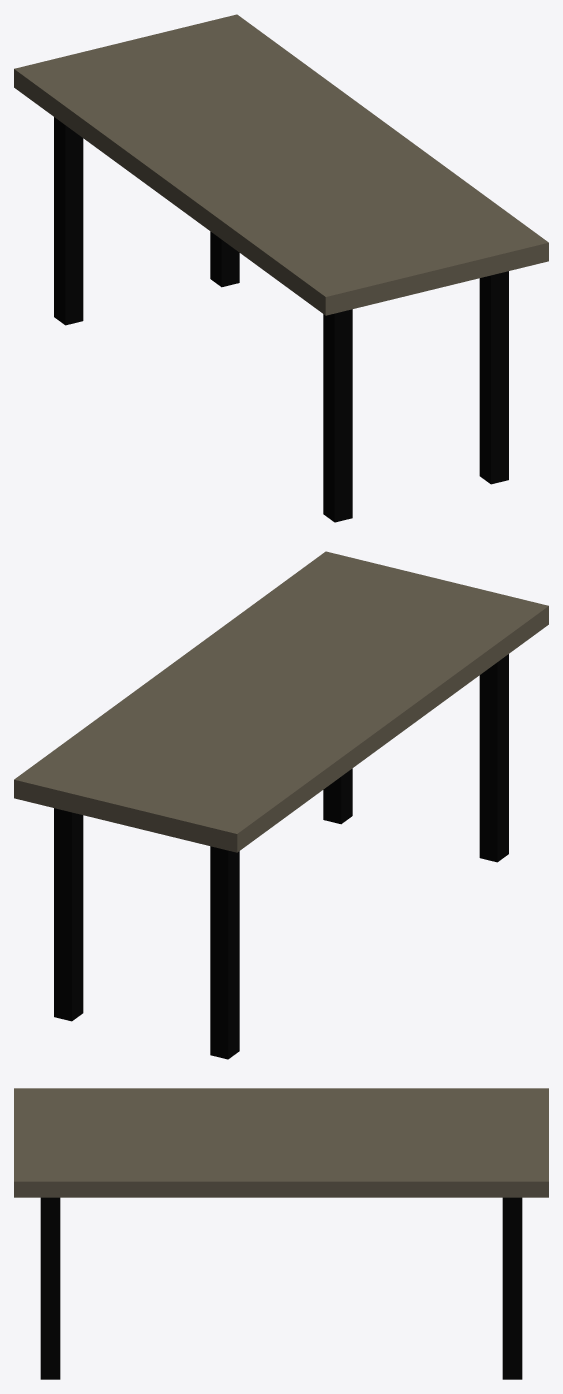
Rendered from Table.glb.
3 views of the same model, one above another, from view 1: azimuth 30°, elevation 25°; view 2: azimuth 150°, elevation 25°; view 3: azimuth 270°, elevation 25° (orthographic). The views are drawn at different scales.
Parts seen in each view (by area): view 1: Table; view 2: Table; view 3: Table.
Boxes of the visible parts, x1,y1,x2,y2 form: Table: (14,14,548,522); Table: (14,551,548,1059); Table: (14,1088,548,1379).
Size of the model in its own units: 1 by 1.04 by 2.42.
